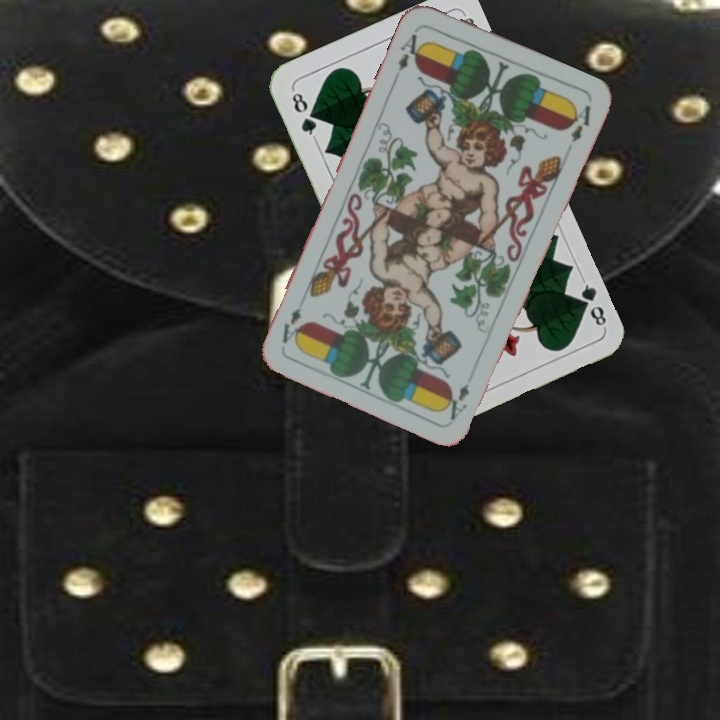EA: (394, 29, 428, 73), (439, 380, 472, 423)
G8: (572, 274, 610, 331), (288, 86, 320, 142)
